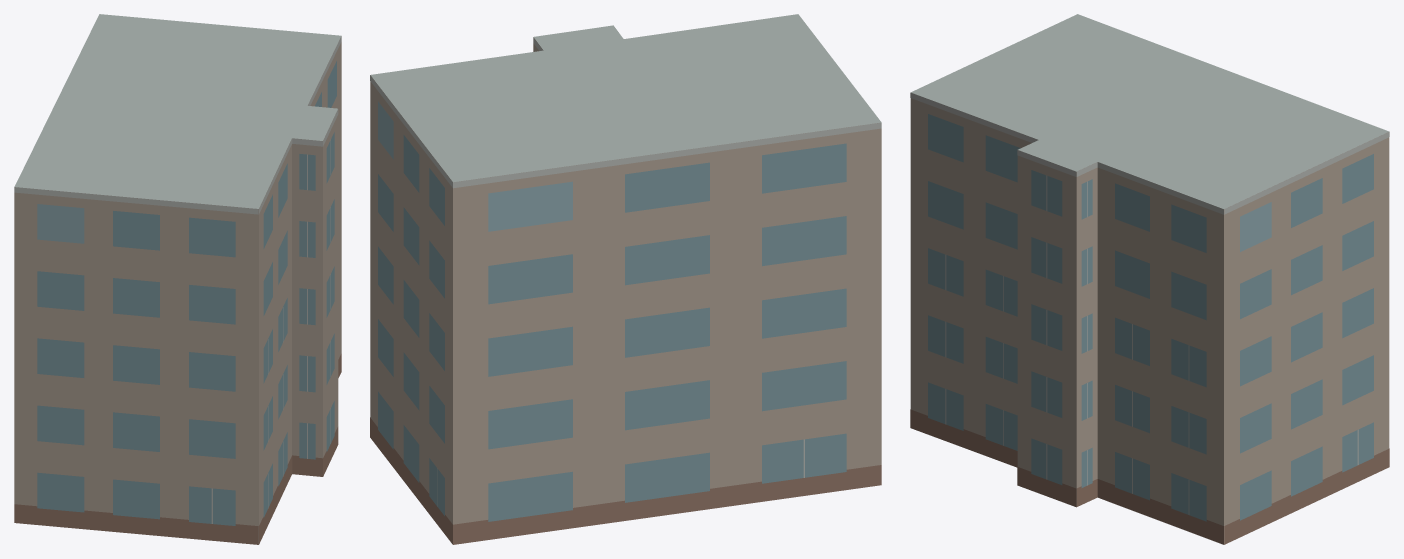
File: survey-upis-32526444.glb
3 views of the same model, side by side, from view 1: azimuth 30°, elevation 25°; view 2: azimuth 150°, elevation 25°; view 3: azimuth 270°, elevation 25° (orthographic). The views are drawn at different scales.
Visible parts, largest first — view 1: survey-upis-32526444.tmp; view 2: survey-upis-32526444.tmp; view 3: survey-upis-32526444.tmp.
Part boxes in pixels (bbox=[...]): survey-upis-32526444.tmp: bbox=[14, 14, 341, 544]; survey-upis-32526444.tmp: bbox=[370, 14, 881, 544]; survey-upis-32526444.tmp: bbox=[910, 14, 1389, 544].
Bounding box in the file's own units: 18.35 × 14.7 × 19.02.
